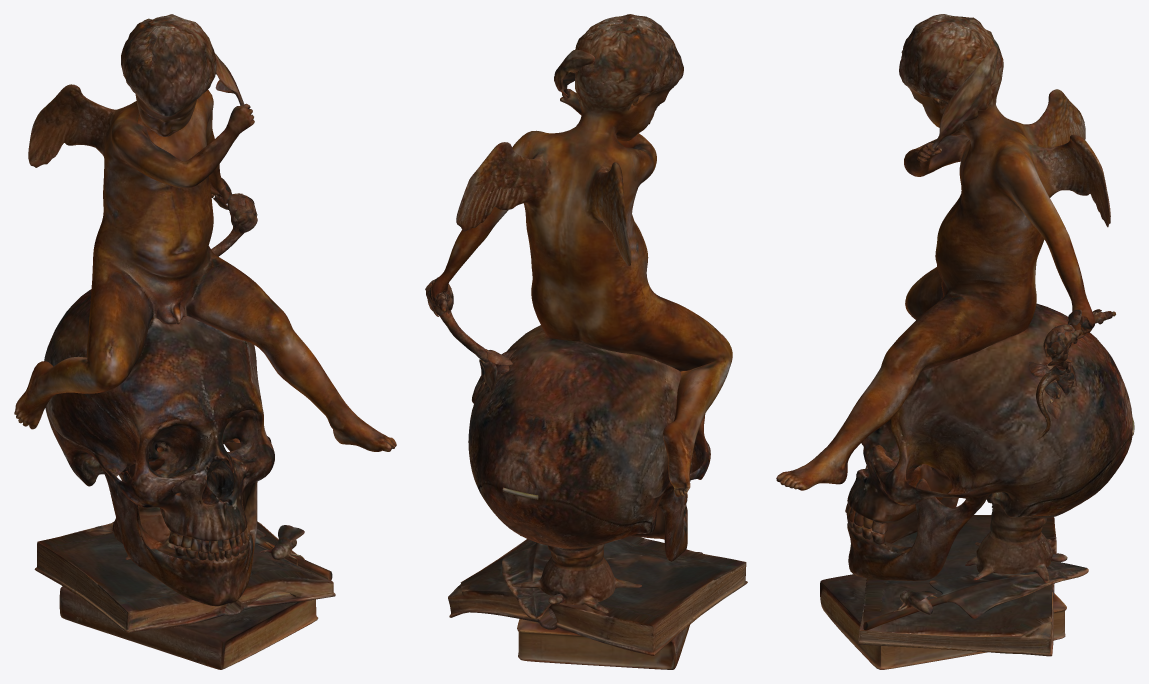
File: igavestiv6idutsevarmastus.glb
The picture shows the model from 3 angles, left to right: view 1: azimuth 30°, elevation 25°; view 2: azimuth 150°, elevation 25°; view 3: azimuth 270°, elevation 25°; orthographic projection. The views are drawn at different scales.
Parts seen in each view (by area): view 1: Mesh; view 2: Mesh; view 3: Mesh.
Part boxes in pixels (<box>): Mesh: <box>14,14,396,669</box>; Mesh: <box>425,14,747,669</box>; Mesh: <box>776,14,1134,669</box>.
Bounding box in the file's own units: 18.41 × 41.15 × 22.42.
Materials: 1 (1 with a texture image).
